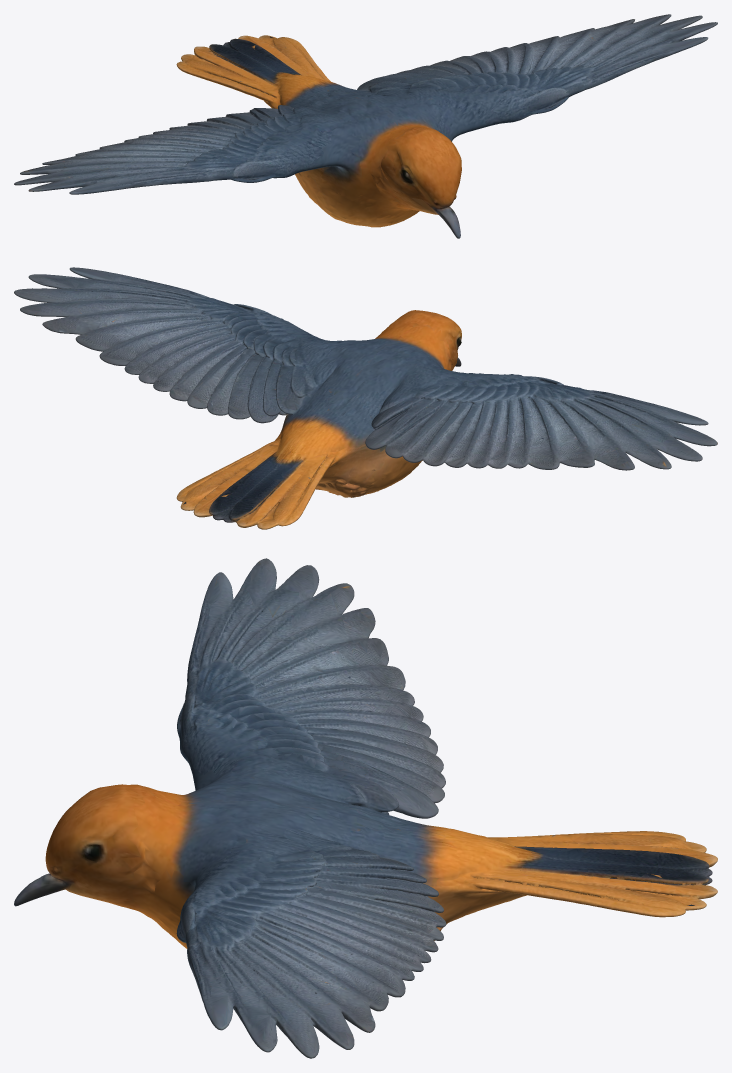
Rendered from Cossypha_natalensis.glb.
3 views of the same model, one above another, from view 1: azimuth 30°, elevation 25°; view 2: azimuth 150°, elevation 25°; view 3: azimuth 270°, elevation 25° (orthographic). The views are drawn at different scales.
Parts seen in each view (by area): view 1: orient; view 2: orient; view 3: orient.
Boxes of the visible parts, left/top/right/bottom form: orient: left=14, top=14, right=717, bottom=238; orient: left=14, top=267, right=717, bottom=529; orient: left=14, top=558, right=717, bottom=1058.
Size of the model in its own units: 0.5 by 0.0882 by 0.3023.
1 material, 1 textured.
